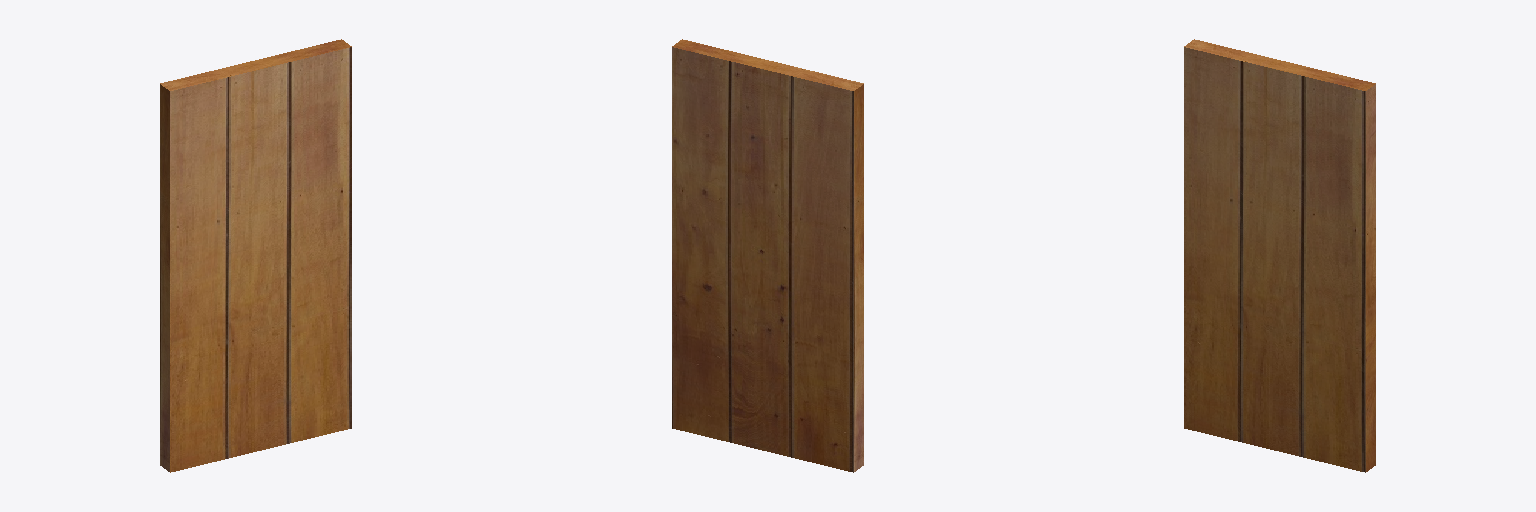
The picture shows the model from 3 angles: view 1: azimuth 30°, elevation 25°; view 2: azimuth 150°, elevation 25°; view 3: azimuth 330°, elevation 25°; orthographic projection.
Visible parts, largest first — view 1: pCube1; view 2: pCube1; view 3: pCube1.
Part boxes in pixels (left/top/right/bottom): pCube1: left=160, top=39, right=351, bottom=472; pCube1: left=672, top=39, right=863, bottom=472; pCube1: left=1184, top=39, right=1375, bottom=472.
Size of the model in its own units: 1 by 2 by 0.1.
1 materials, 1 textured.